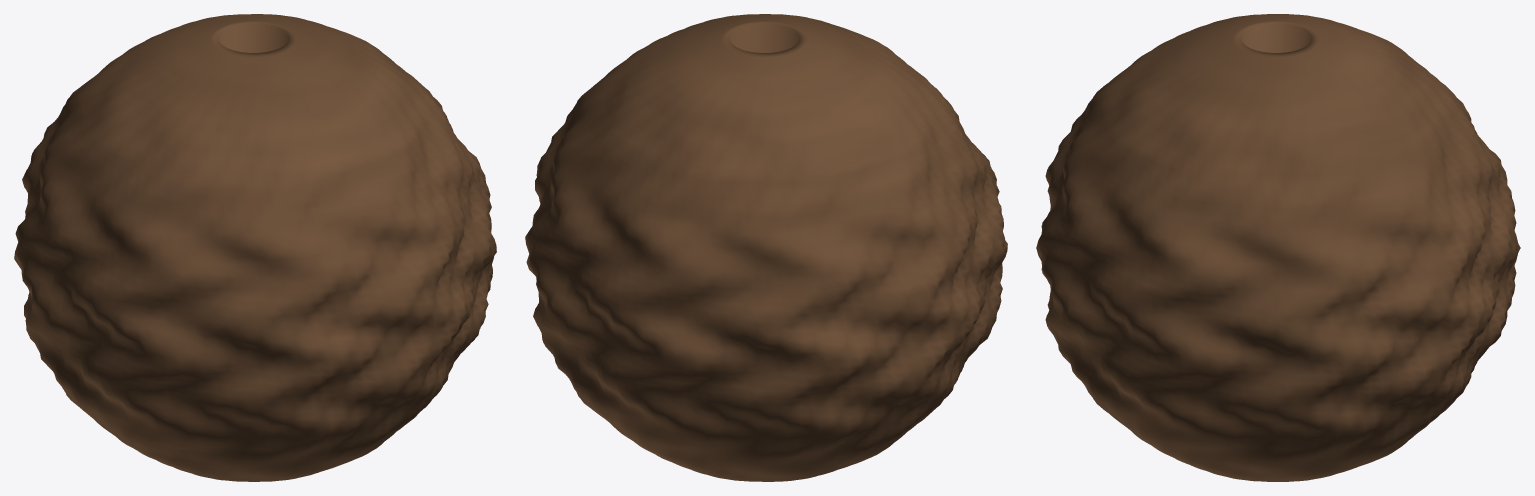
Rendered from baixiang-seed.glb.
3 renders of one model, left to right at view 1: azimuth 30°, elevation 25°; view 2: azimuth 150°, elevation 25°; view 3: azimuth 270°, elevation 25°, orthographic.
Visible parts, largest first — view 1: baixiang-seed; view 2: baixiang-seed; view 3: baixiang-seed.
Boxes of the visible parts, x1=… form: baixiang-seed: x1=14, y1=14, x2=496, y2=481; baixiang-seed: x1=525, y1=14, x2=1007, y2=481; baixiang-seed: x1=1036, y1=14, x2=1520, y2=481.
Bounding box in the file's own units: 0.00828 × 0.00791 × 0.00828.
